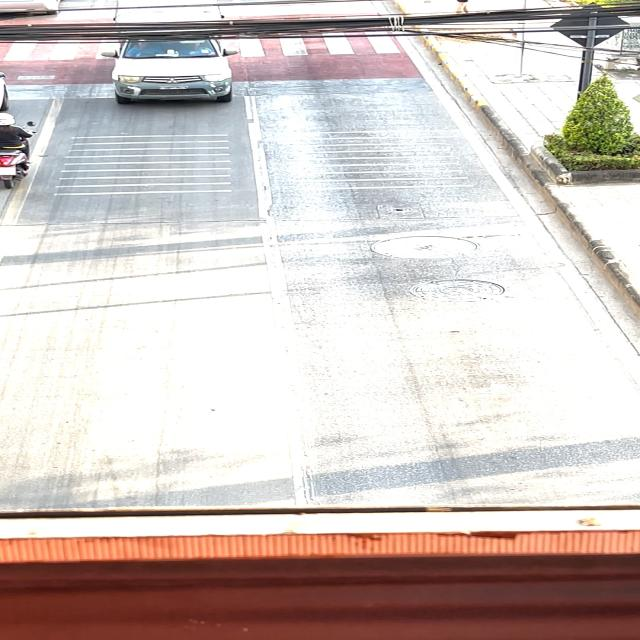car: (96, 0, 249, 110)
